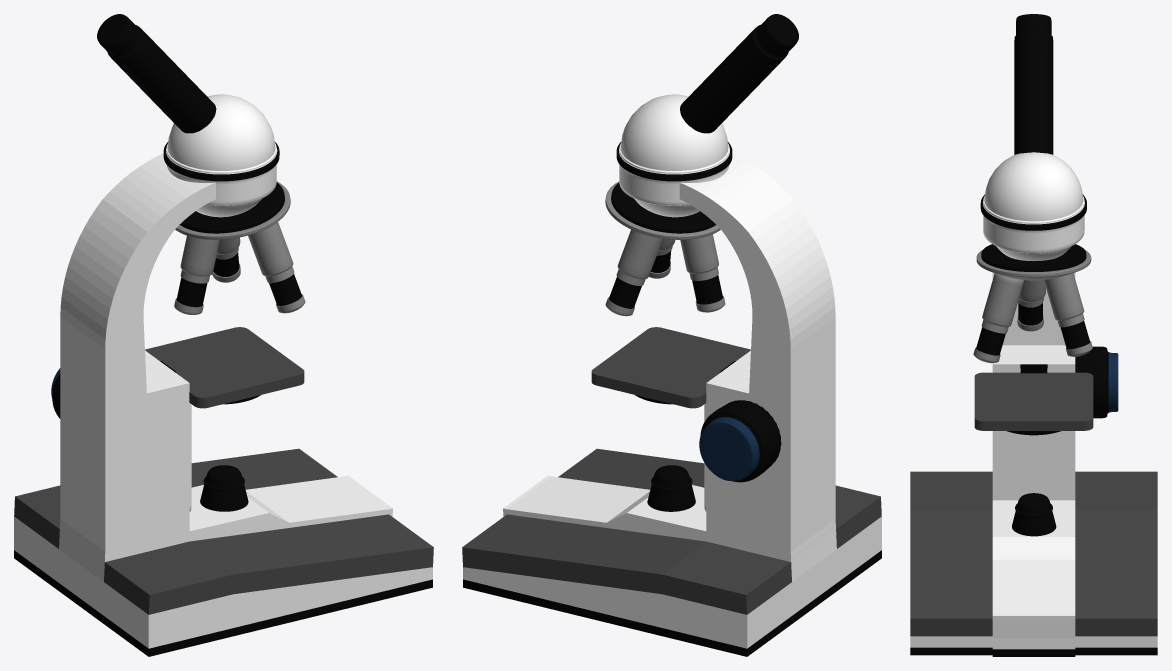
Rendered from Microscope.fbx.
3 renders of one model, left to right at view 1: azimuth 30°, elevation 25°; view 2: azimuth 150°, elevation 25°; view 3: azimuth 270°, elevation 25°, orthographic. The views are drawn at different scales.
Visible parts, largest first — view 1: Microscope; view 2: Microscope; view 3: Microscope.
Boxes of the visible parts, box(x1,y1,x2,y2) form: Microscope: box(14, 14, 433, 656); Microscope: box(462, 14, 881, 656); Microscope: box(910, 14, 1157, 656).
Size of the model in its own units: 37.84 by 72.73 by 30.53.
